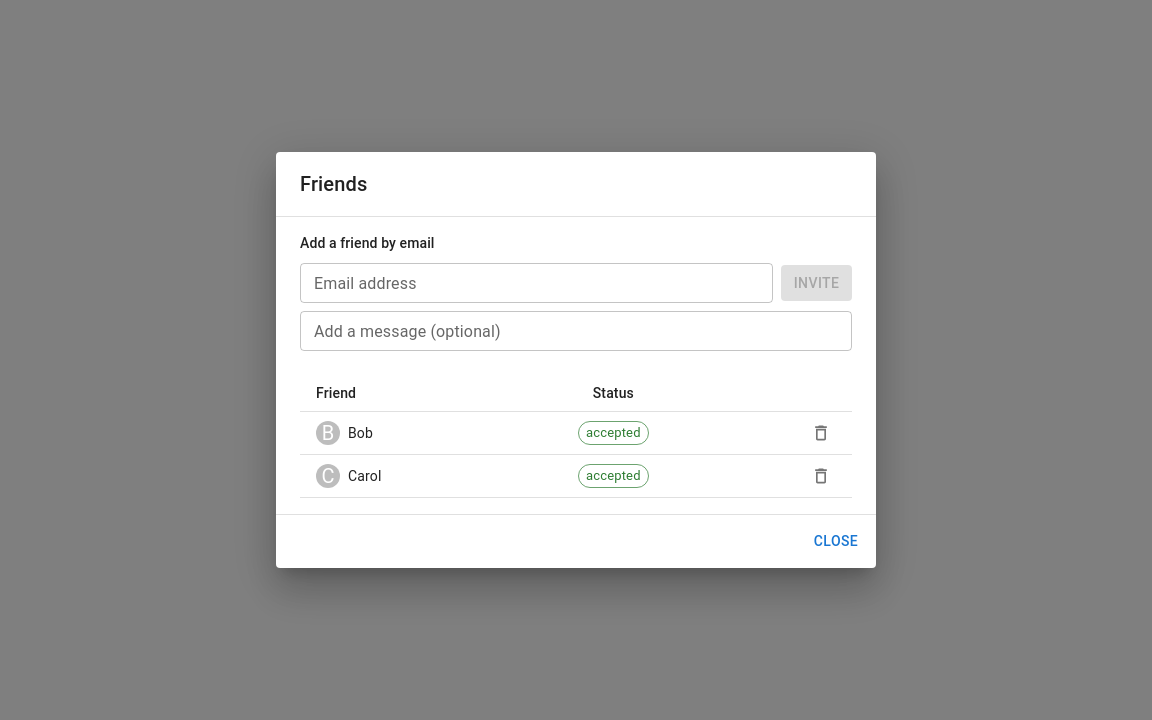
Scenario: FriendsDialog › unfriends an accepted friend after confirmation, leaving siblings
Click the button named "remove bob". click: click(821, 433)
box: [806,418,836,448]
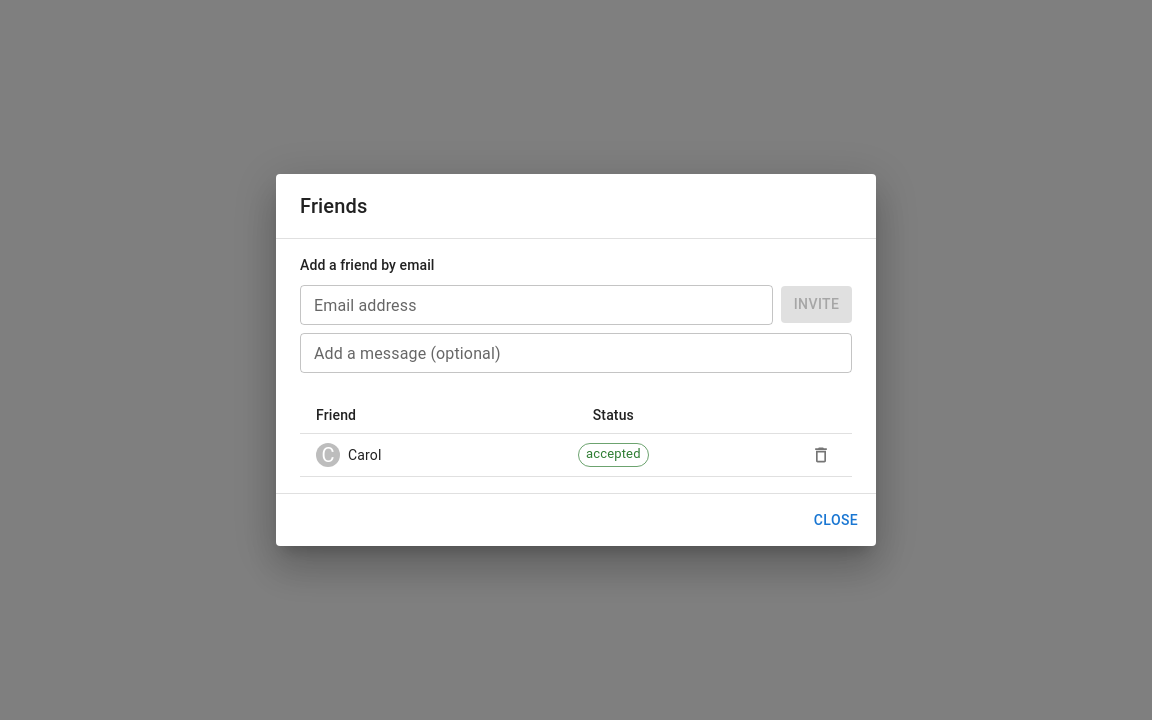
Expected: the text "Carol" is shown, [348,447,382,463]
Now the text "Bob" is gone
